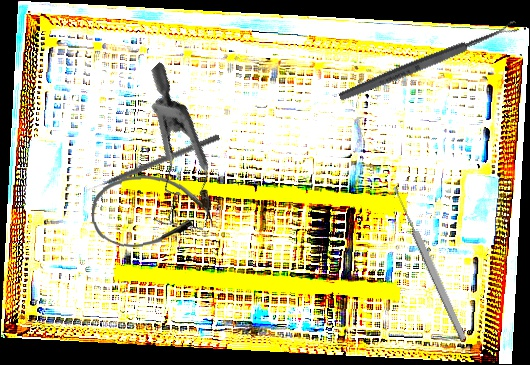Cannula: (90, 171, 213, 251)
Pusher: (84, 132, 221, 194)
Speculum: (78, 61, 263, 250)
Surgical Spoon: (337, 19, 520, 104), (390, 184, 469, 342)
